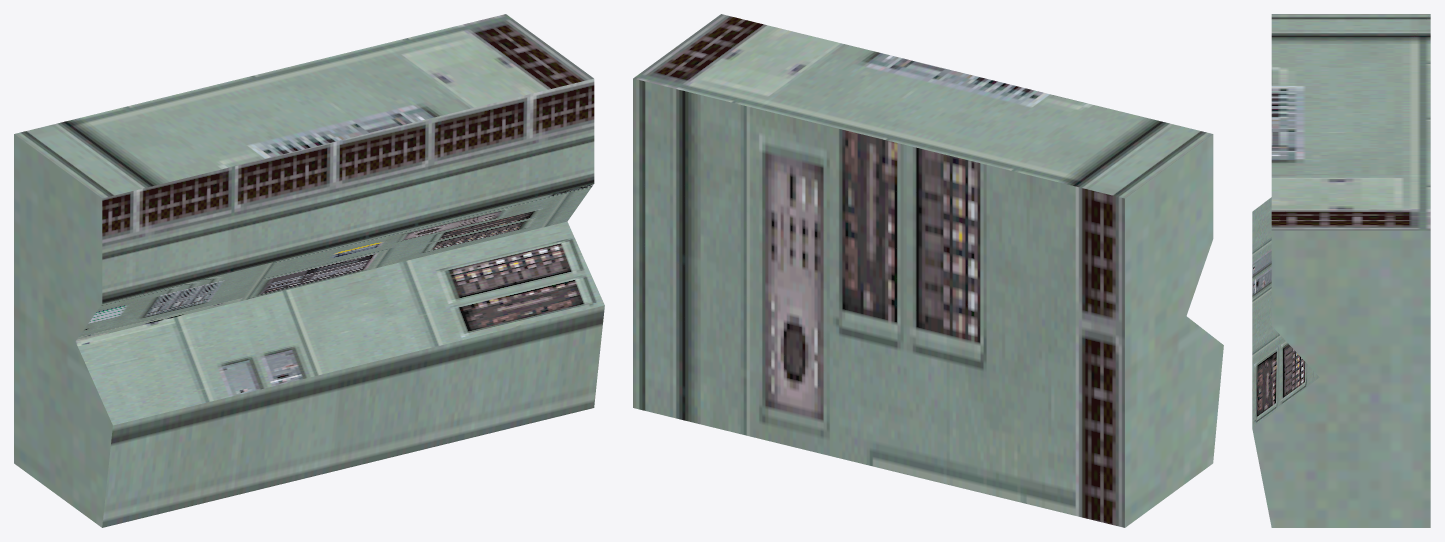
The model's file is steering console.glb.
3 views of the same model, side by side, from view 1: azimuth 30°, elevation 25°; view 2: azimuth 150°, elevation 25°; view 3: azimuth 270°, elevation 25° (orthographic). The views are drawn at different scales.
Visible parts, largest first — view 1: Steering; view 2: Steering; view 3: Steering.
Boxes of the visible parts, bbox=[...] form: Steering: bbox=[14, 14, 604, 527]; Steering: bbox=[633, 14, 1223, 527]; Steering: bbox=[1252, 14, 1430, 527].
Bounding box in the file's own units: 5.11 × 3.27 × 1.78.
Materials: 1 (1 with a texture image).
